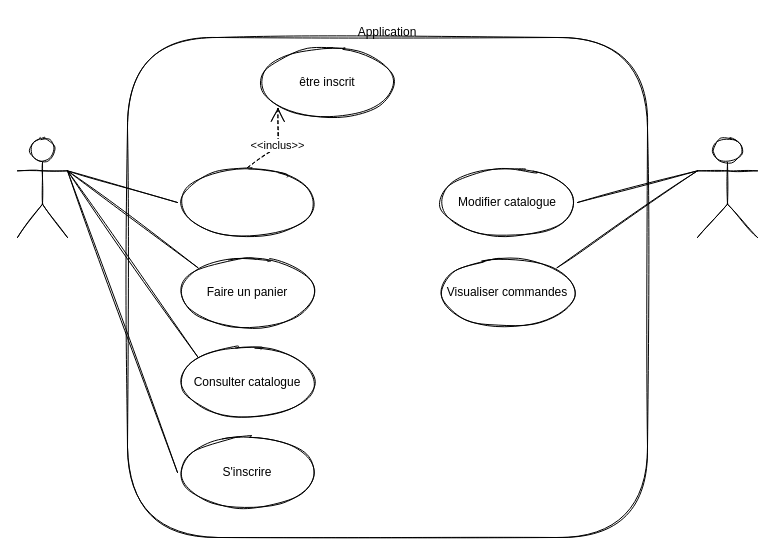
The diagram is 775 pixels wide and 555 high, and some of its shapes have lost their labels. Each missing label, with the box of its shape:
Admin: (696, 136, 758, 238)
Consulter profil: (176, 166, 318, 238)
Usager: (16, 136, 68, 238)
